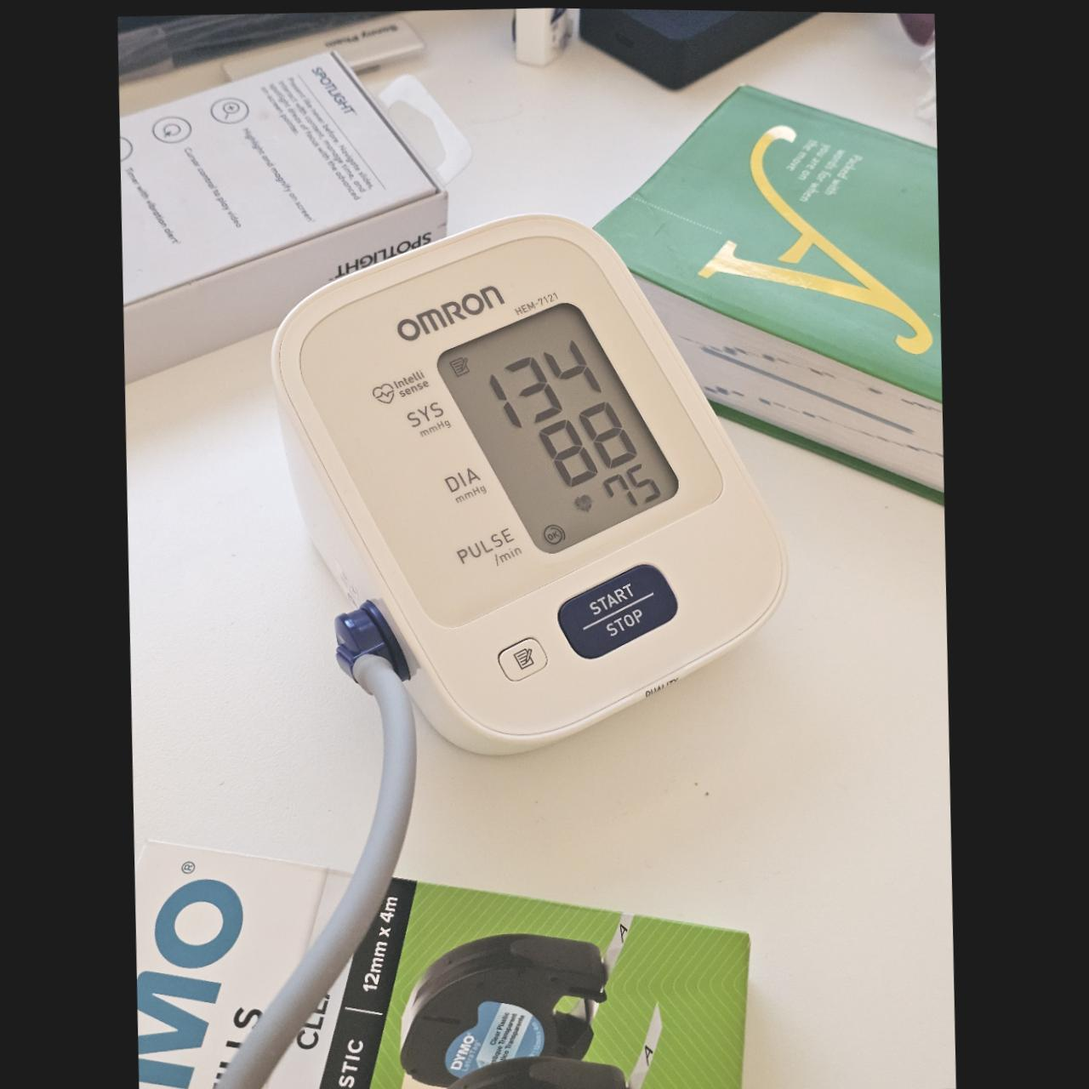lcd display: (433, 296, 686, 565)
